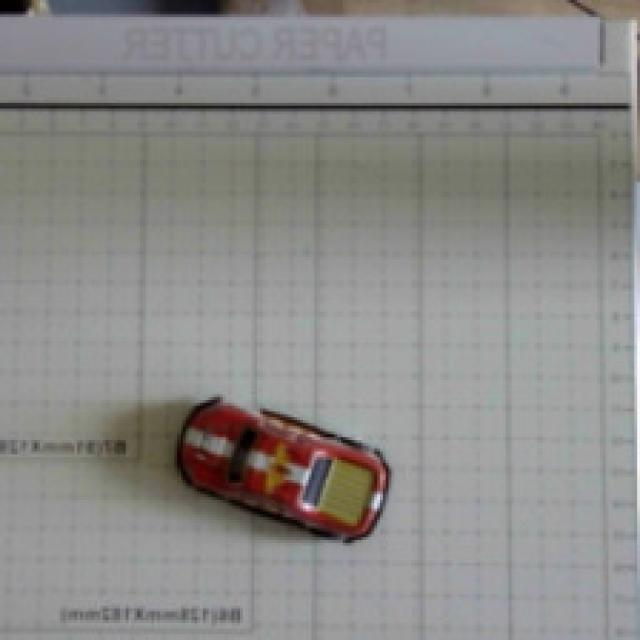Red Car: (133, 340, 455, 624)
